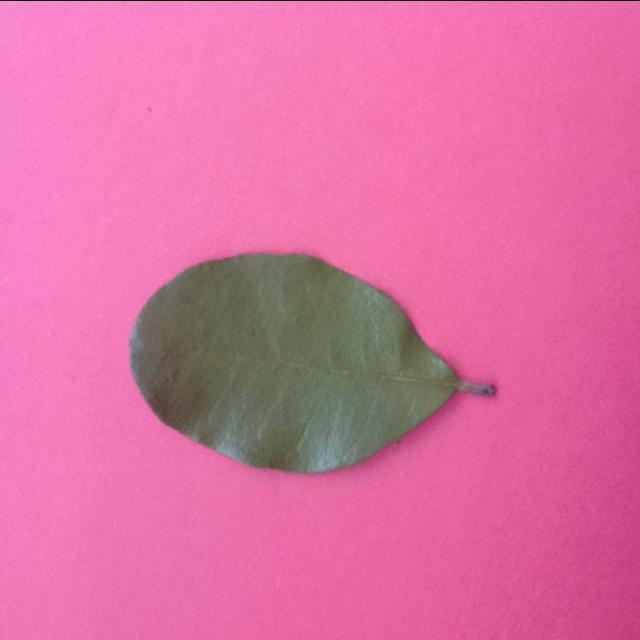foliage: (124, 240, 498, 476)
